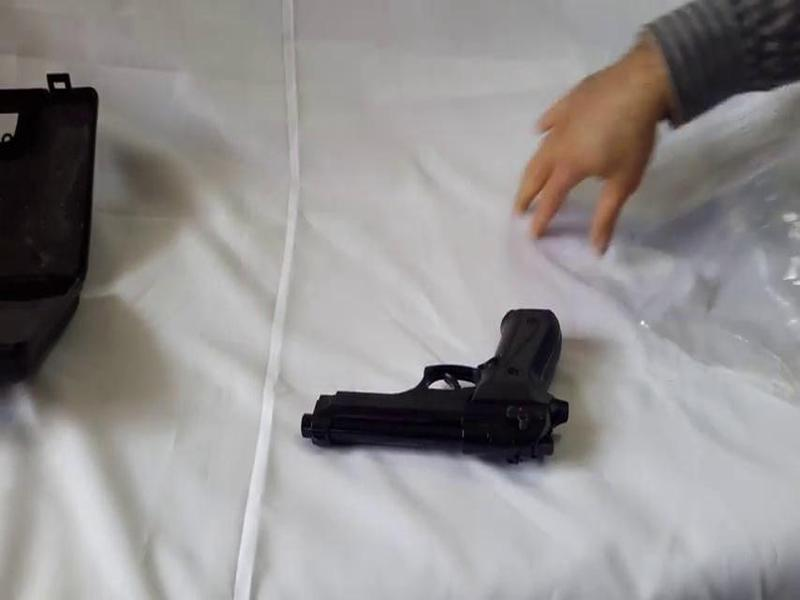Pistola: (284, 294, 586, 476)
